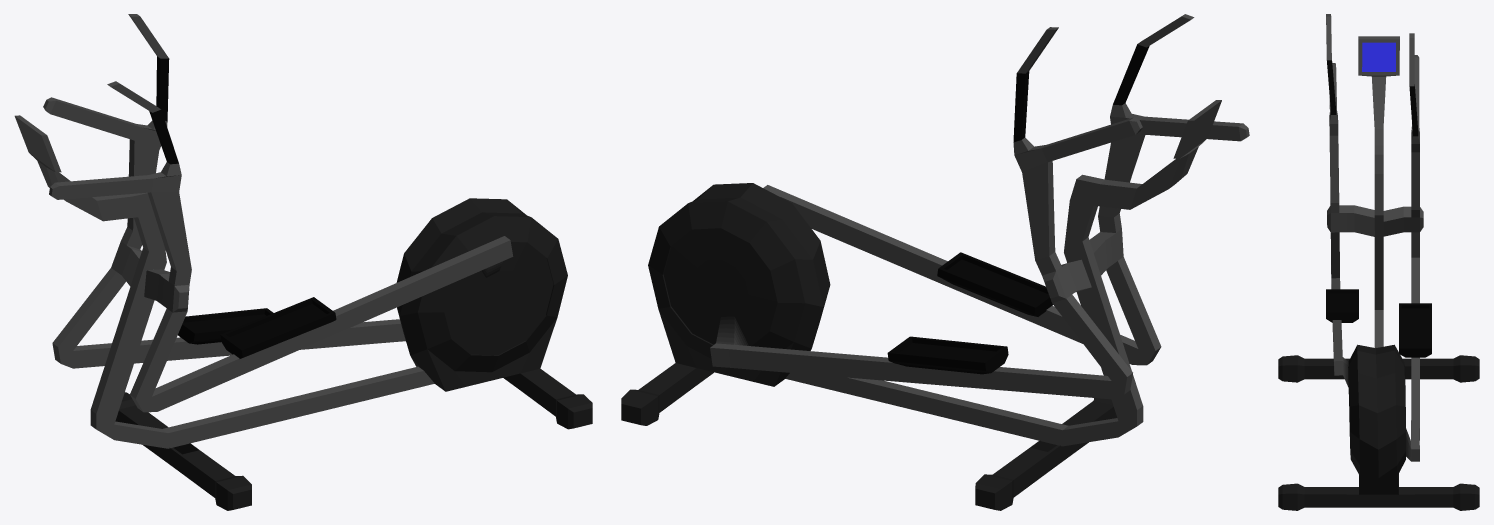
File: CrossTrainer.fbx
3 views of the same model, side by side, from view 1: azimuth 30°, elevation 25°; view 2: azimuth 150°, elevation 25°; view 3: azimuth 270°, elevation 25° (orthographic). The views are drawn at different scales.
Visible parts, largest first — view 1: CrossTrainer; view 2: CrossTrainer; view 3: CrossTrainer.
Boxes of the visible parts, x1=… form: CrossTrainer: x1=14, y1=14, x2=592, y2=510; CrossTrainer: x1=621, y1=14, x2=1249, y2=510; CrossTrainer: x1=1278, y1=14, x2=1479, y2=510.
Bounding box in the file's own units: 240 × 186 × 101.
